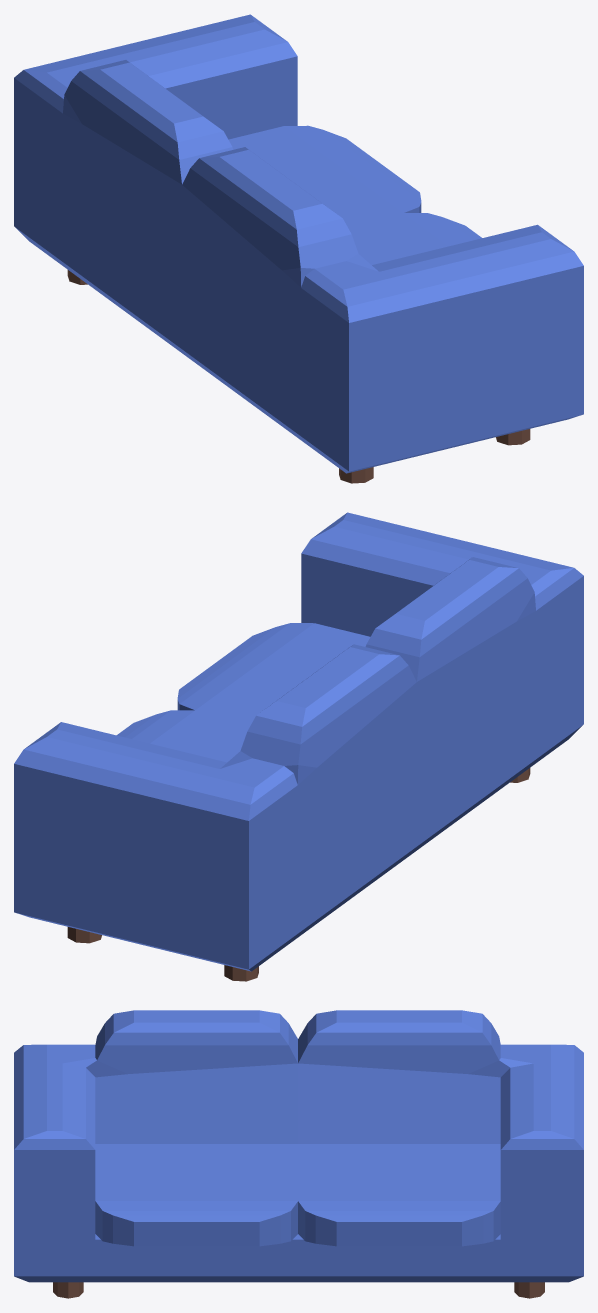
File: Couch.fbx
3 renders of one model, top to bottom at view 1: azimuth 30°, elevation 25°; view 2: azimuth 150°, elevation 25°; view 3: azimuth 270°, elevation 25°, orthographic. The views are drawn at different scales.
Visible parts, largest first — view 1: Cube; view 2: Cube; view 3: Cube, Cylinder, Cylinder.003.
Part boxes in pixels (left/top/right/bottom): Cube: left=14, top=14, right=583, bottom=473; Cube: left=14, top=512, right=583, bottom=971; Cube: left=14, top=1010, right=583, bottom=1282; Cylinder: left=514, top=1282, right=544, bottom=1298; Cylinder.003: left=53, top=1282, right=83, bottom=1298.
Bounding box in the file's own units: 333 × 297 × 742.
